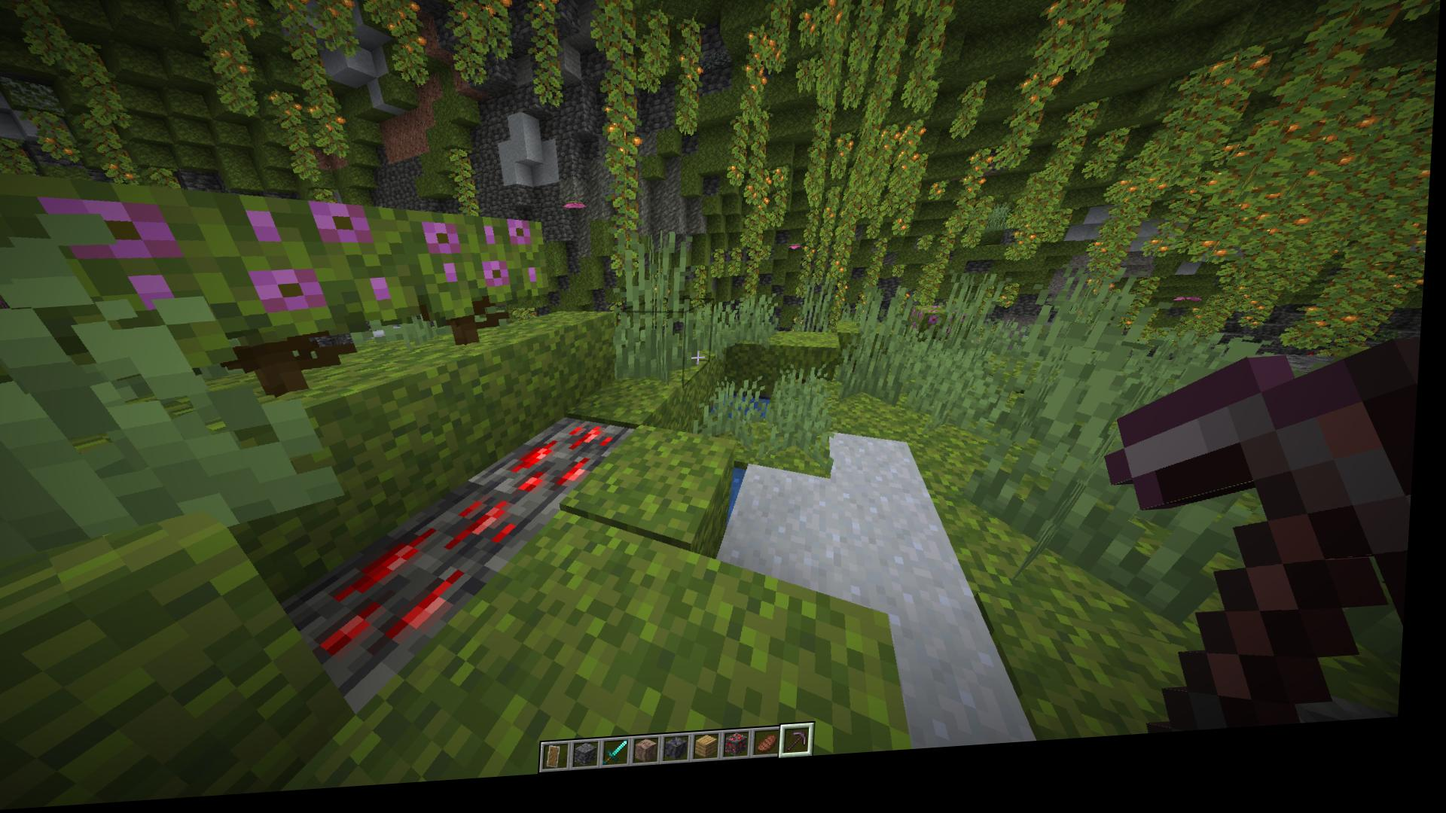redstone ore: (317, 495, 532, 664), (504, 424, 631, 516)
